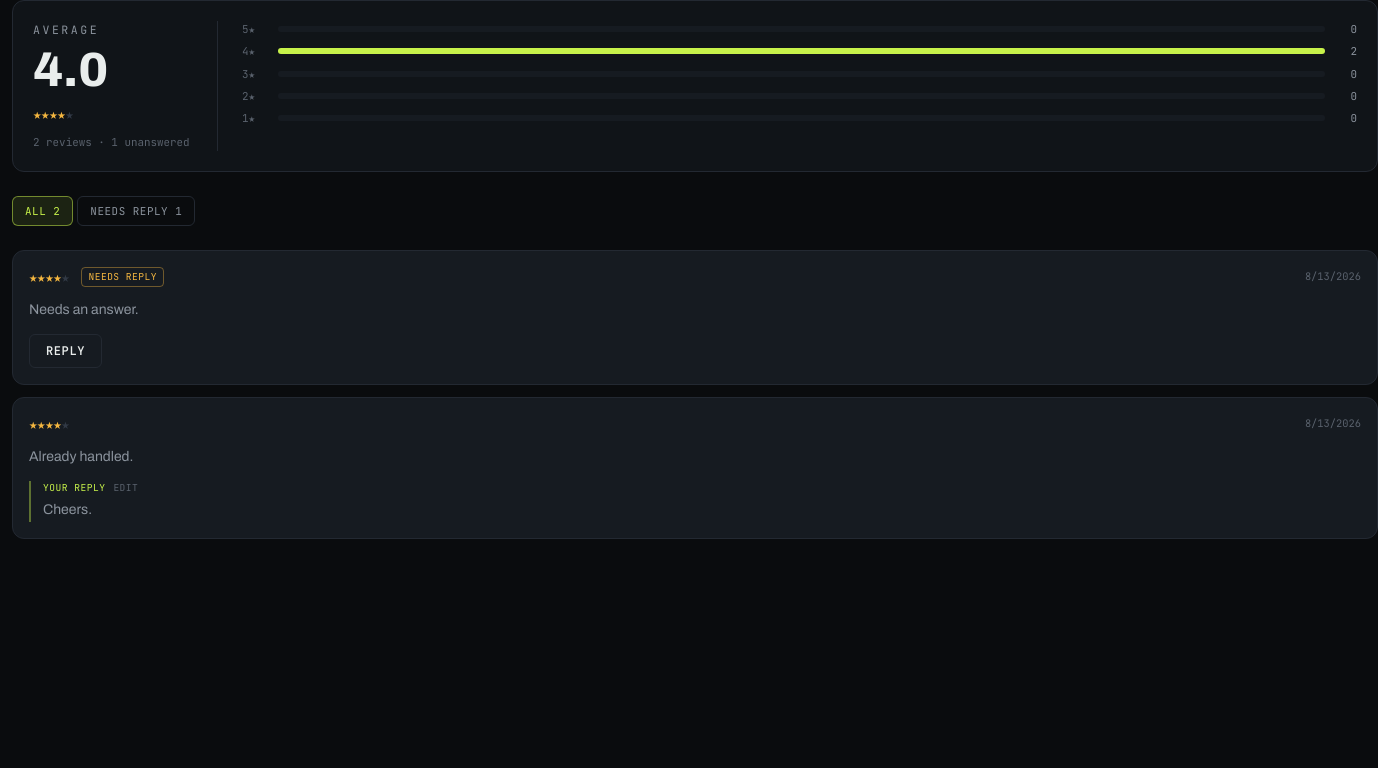
TabReviews › can narrow to the reviews still needing a reply
Expected: the text "Needs an answer." is shown, [29,302,138,317]
Expected: the text "Already handled." is shown, [29,449,133,464]
Click the button "Needs reply 1": x=136, y=211 [77,196,195,226]
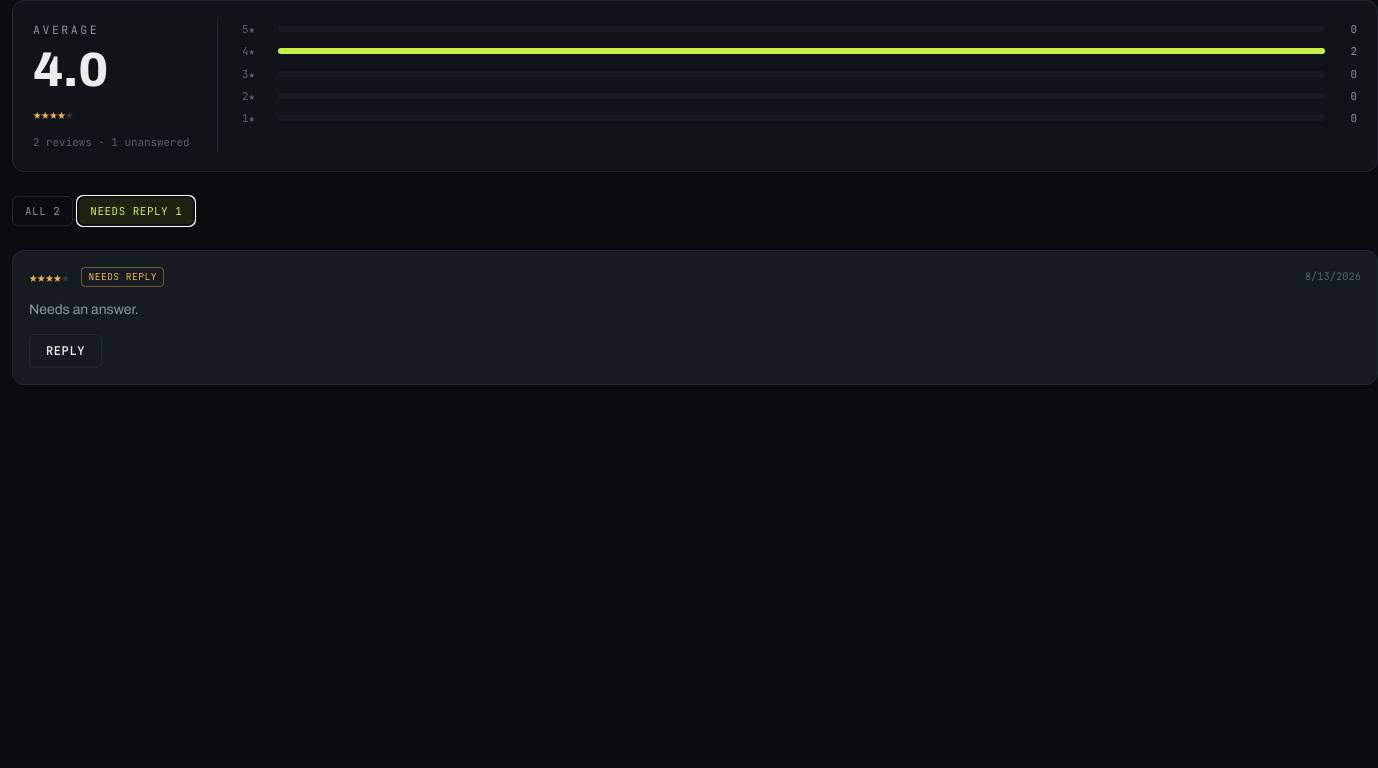
Expected: the text "Needs an answer." is shown, [29,302,138,317]
Now the text "Already handled." is gone
